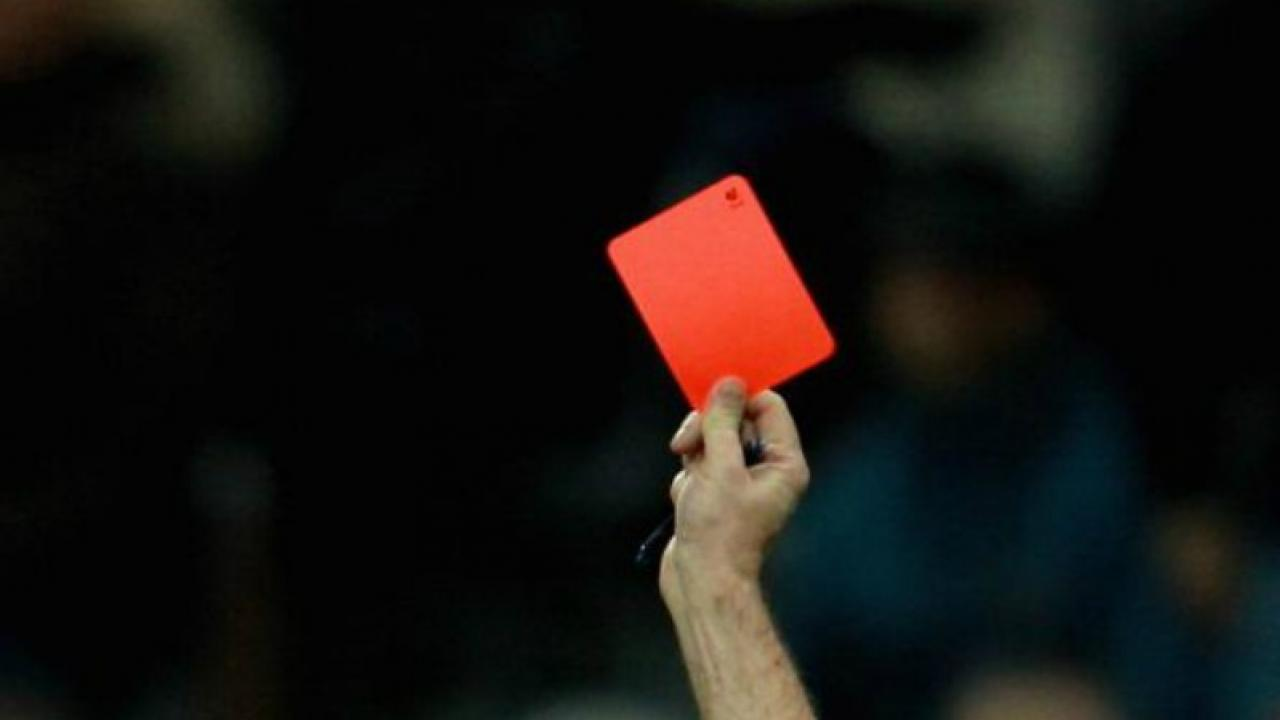red_card: (526, 157, 873, 618)
